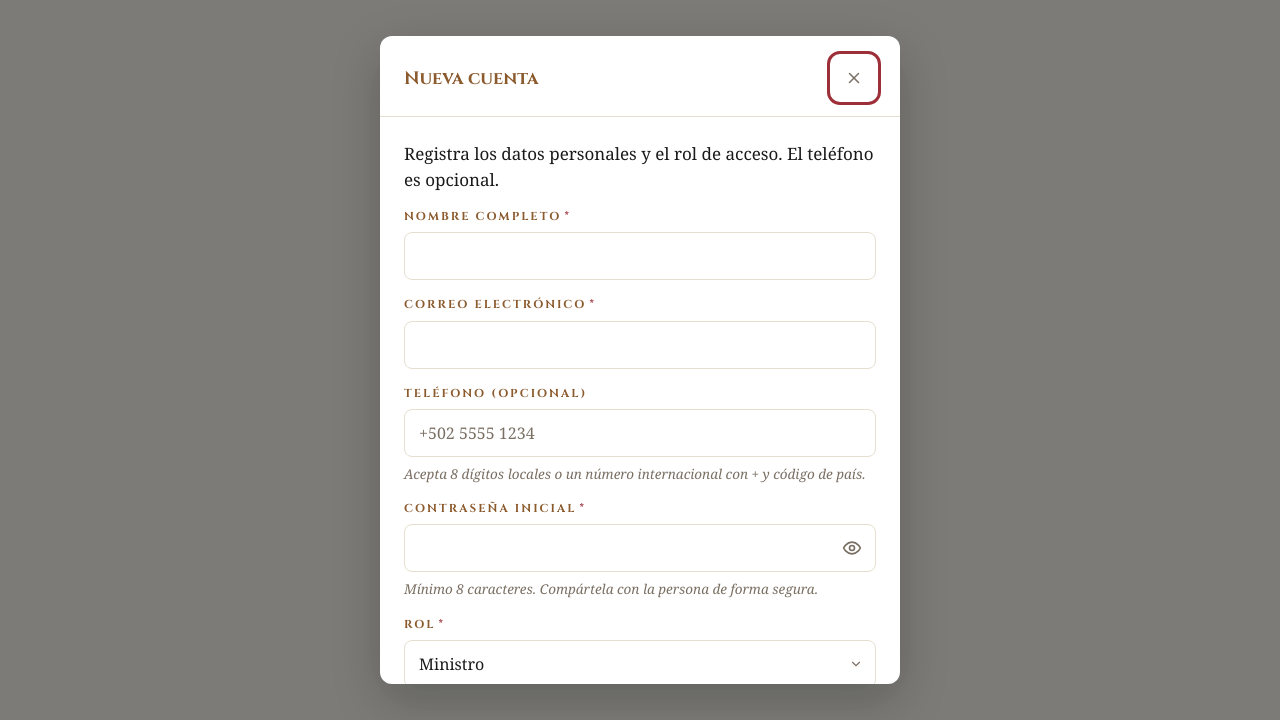
Test: teléfono en nueva cuenta › conserva el número si el servidor informa que está repetido
Type "Ana" into the field labelled "Nombre completo". click: (640, 256)
box: left=404, top=232, right=876, bottom=280
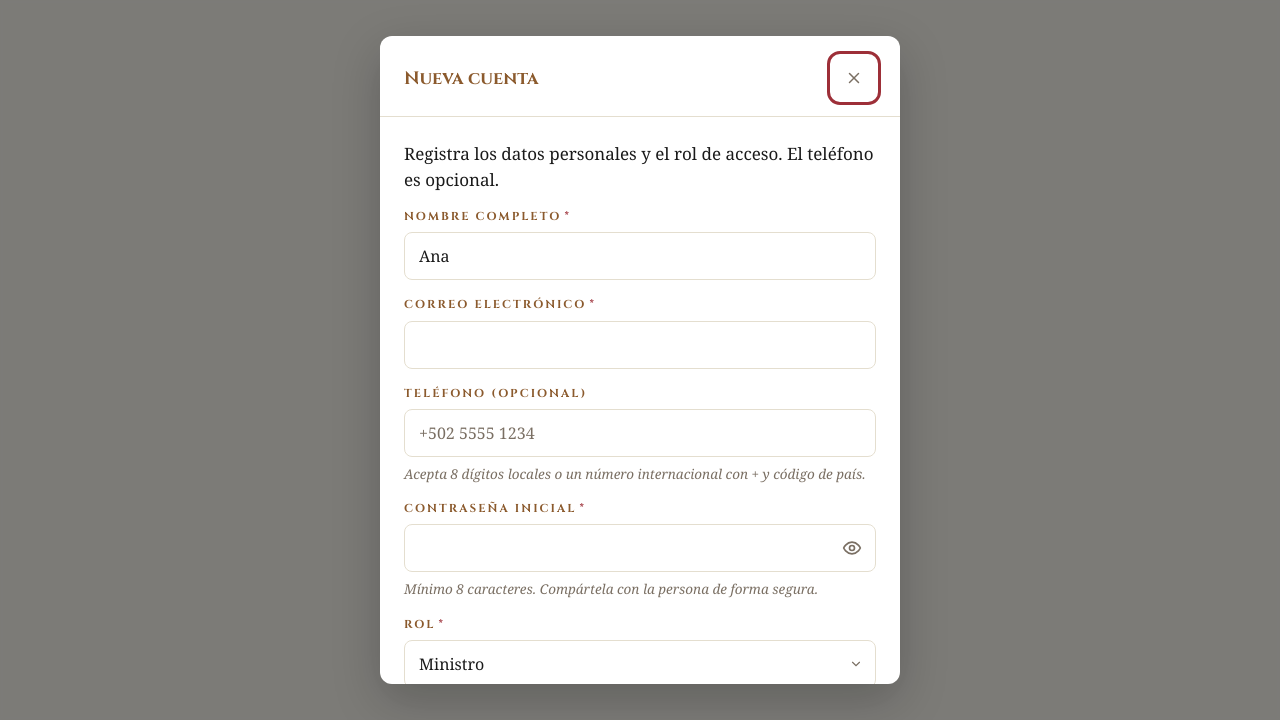
Type "ana@example.com" into the field labelled "Correo electrónico". click: (640, 344)
box: left=404, top=320, right=876, bottom=368
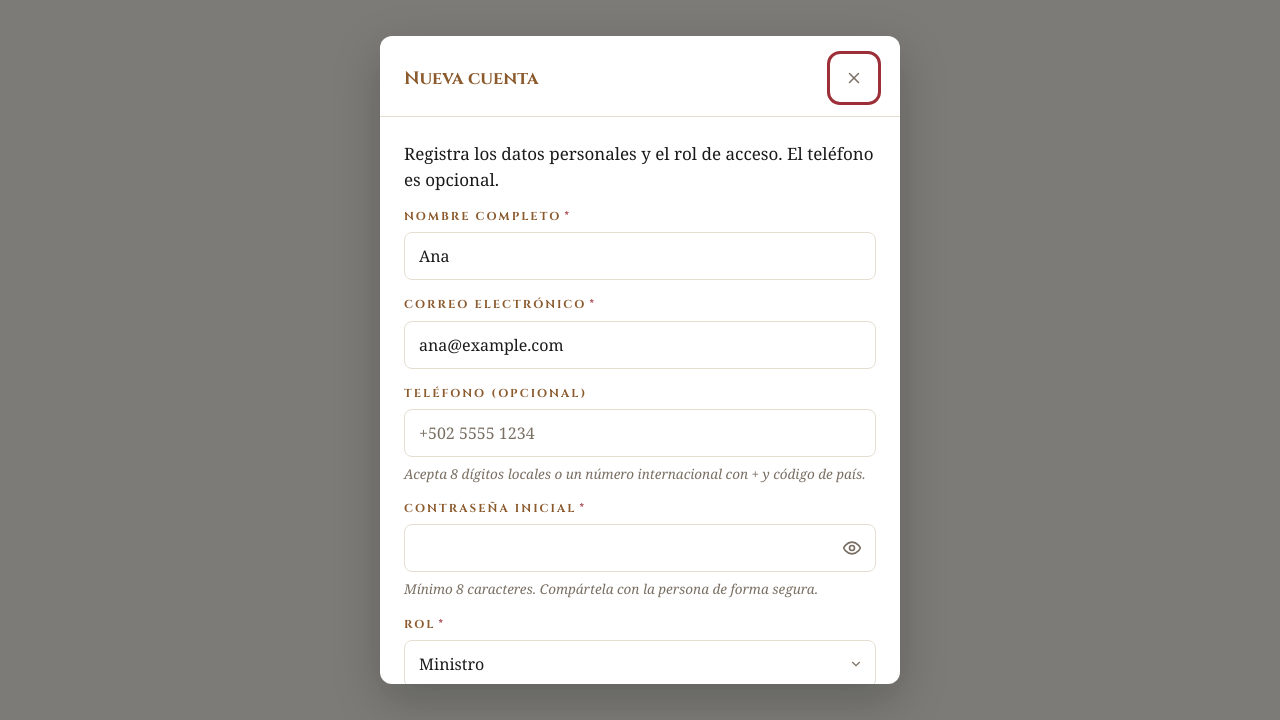
Type "Clave-Segura-1" into the password field labelled "Contraseña inicial". click: (640, 548)
box: left=404, top=524, right=876, bottom=572
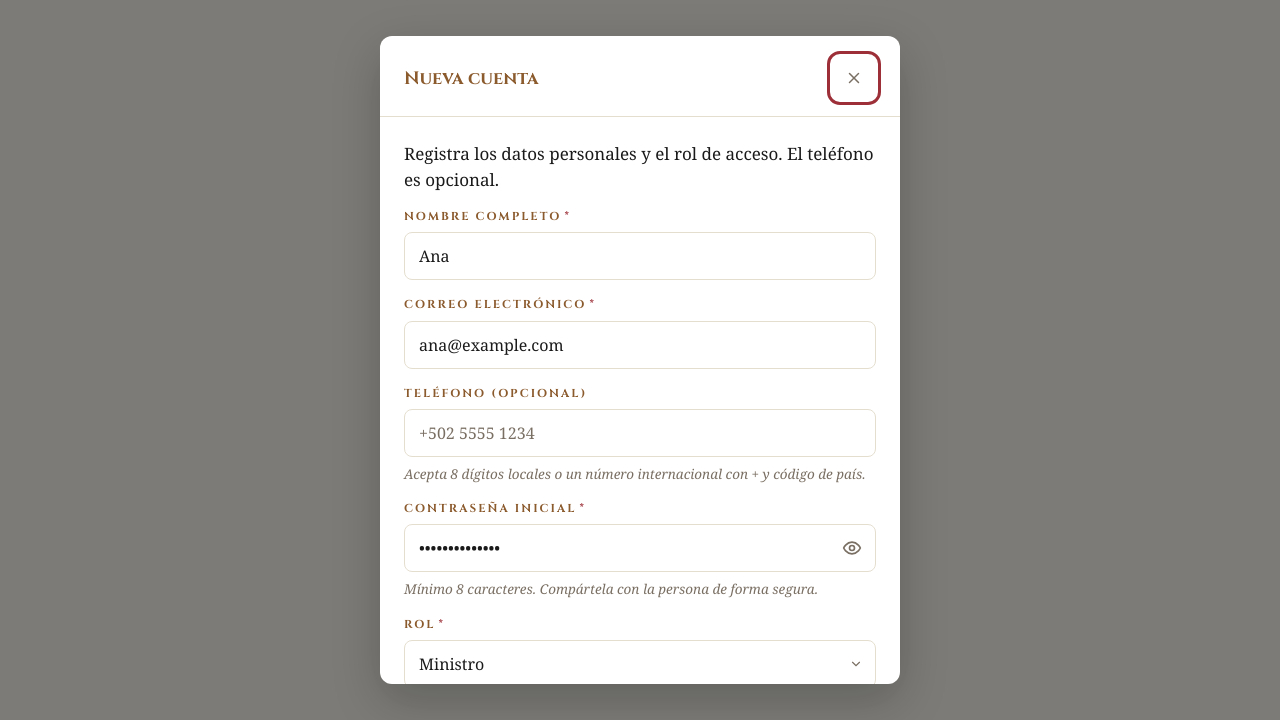
Type "55551234" into the field labelled "Teléfono (opcional)". click: (640, 433)
box: left=404, top=409, right=876, bottom=457
(page scrolled)
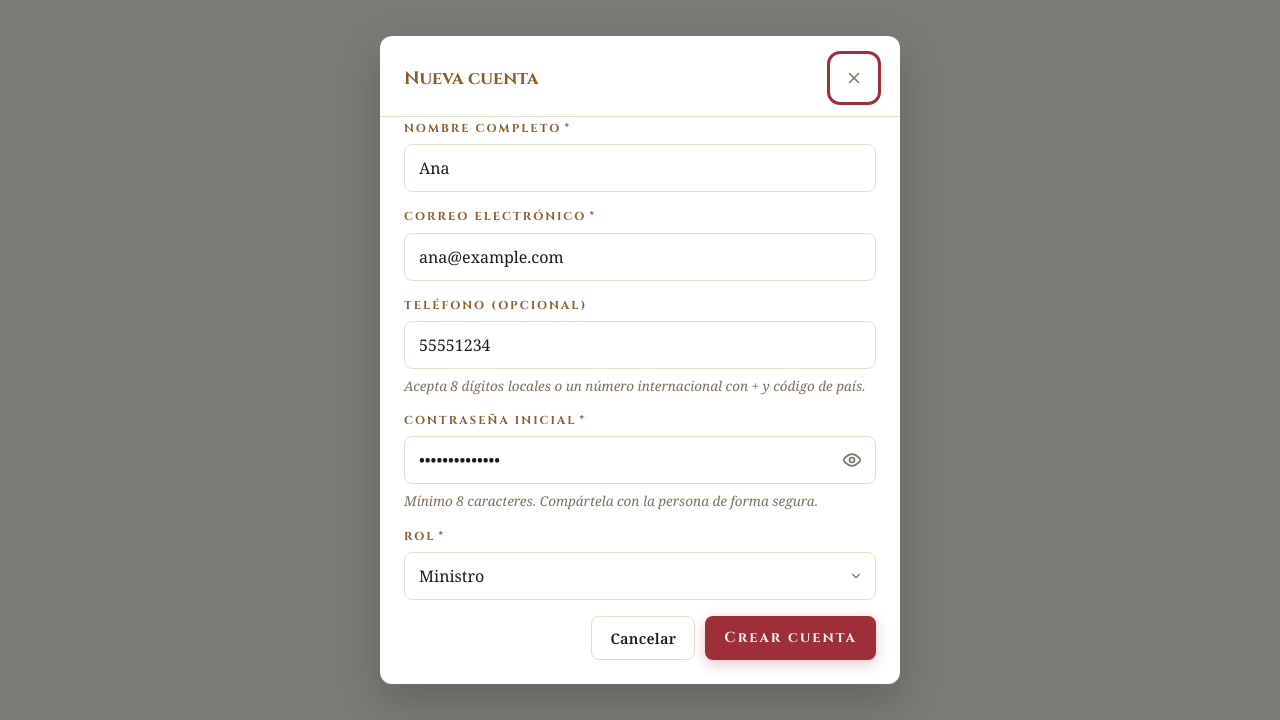
Click the button "Crear cuenta". click: (791, 638)
box: left=705, top=616, right=876, bottom=660
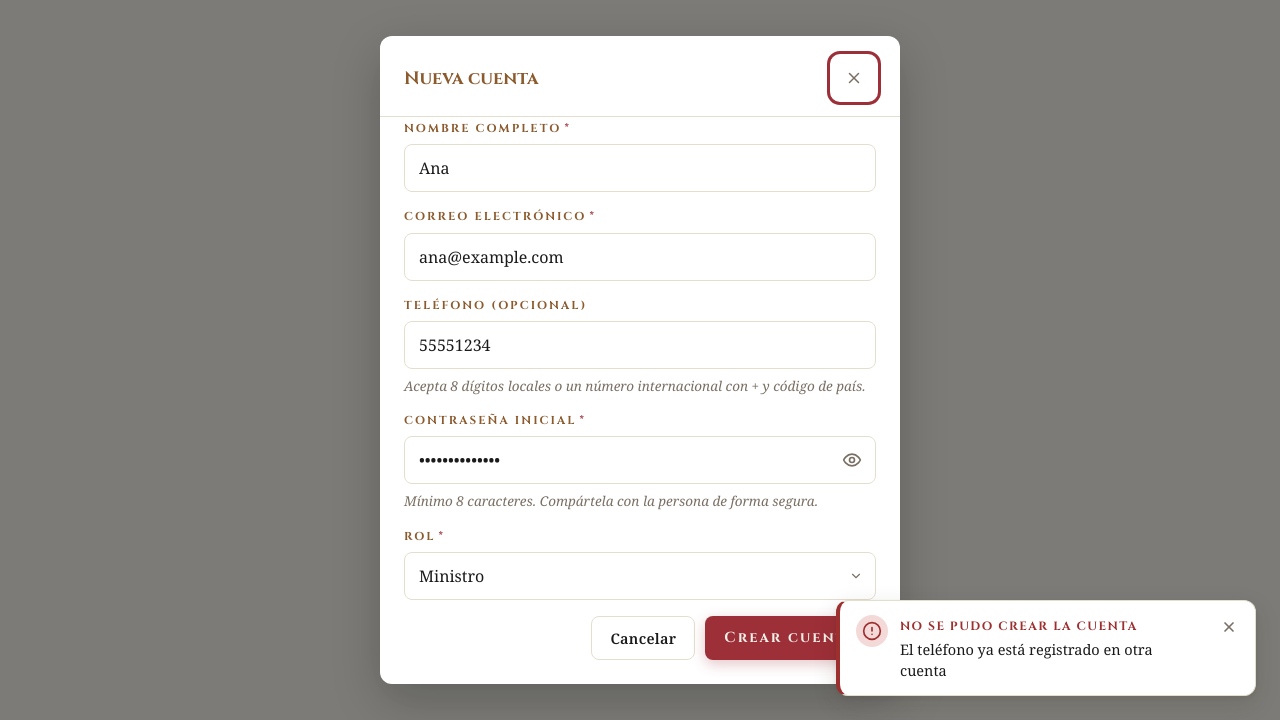
Expected: the message shows "ya está registrado", left=900, top=639, right=1152, bottom=680
